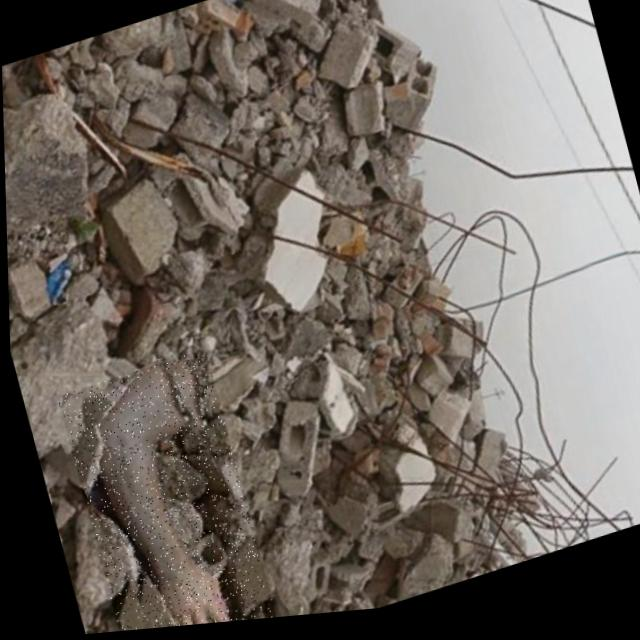Person in Rubble: (52, 347, 276, 637)
